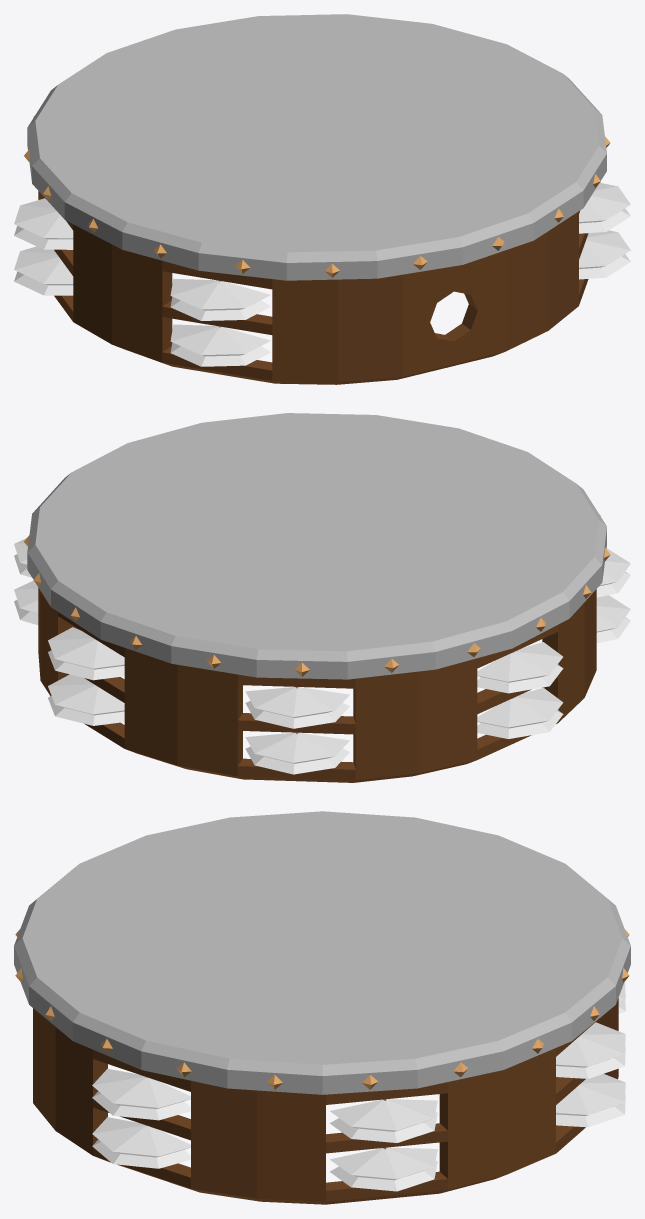
File: concert-tambourine-492931.glb
The picture shows the model from 3 angles, top to bottom: view 1: azimuth 30°, elevation 25°; view 2: azimuth 150°, elevation 25°; view 3: azimuth 270°, elevation 25°; orthographic projection. The views are drawn at different scales.
Parts seen in each view (by area): view 1: tambourine-body, tambourine-metal; view 2: tambourine-body, tambourine-metal; view 3: tambourine-body, tambourine-metal.
Part boxes in pixels (box(x1,y1,x2,y2)): tambourine-body: box(27, 14, 606, 384); tambourine-metal: box(14, 116, 630, 366); tambourine-body: box(27, 413, 606, 782); tambourine-metal: box(14, 514, 630, 774); tambourine-body: box(14, 811, 630, 1204); tambourine-metal: box(15, 929, 629, 1191).
Size of the model in its own units: 0.2697 by 0.068 by 0.2541.
